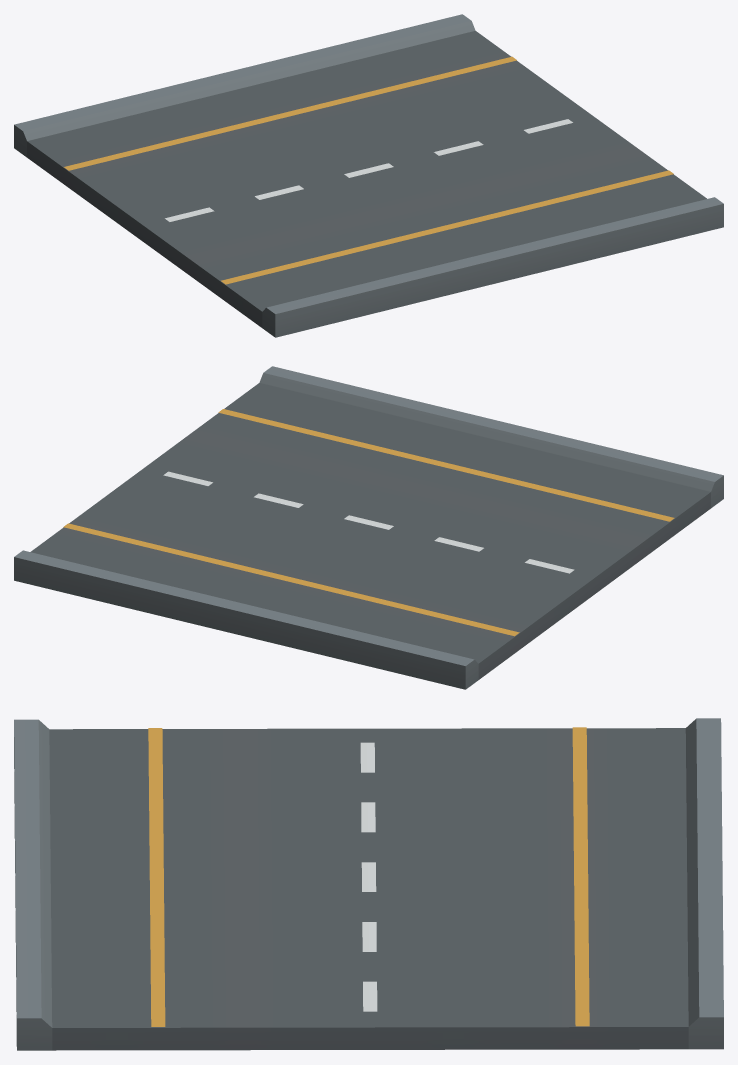
The model's file is road8_lev3.glb.
3 renders of one model, top to bottom at view 1: azimuth 30°, elevation 25°; view 2: azimuth 150°, elevation 25°; view 3: azimuth 270°, elevation 25°, orthographic. The views are drawn at different scales.
Visible parts, largest first — view 1: road_straight.010; view 2: road_straight.010; view 3: road_straight.010.
Boxes of the visible parts, box(x1,y1,x2,y2) form: road_straight.010: box(14, 14, 723, 337); road_straight.010: box(14, 366, 723, 689); road_straight.010: box(14, 718, 723, 1050).
Bounding box in the file's own units: 18.7 × 0.9321 × 18.7.
Materials: 1 (1 with a texture image).
